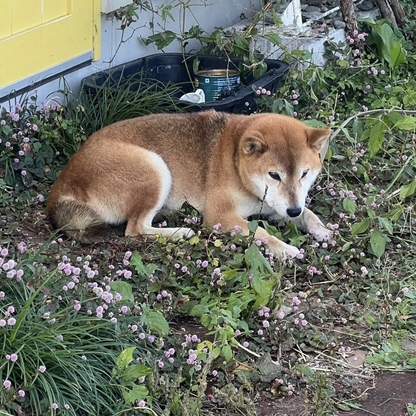akita: (41, 101, 344, 266)
